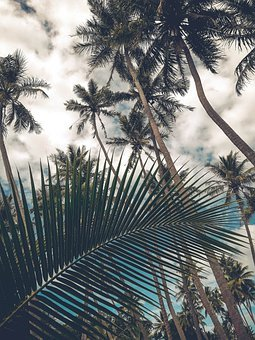forest: (11, 49, 244, 339)
tree: (93, 2, 255, 336)
